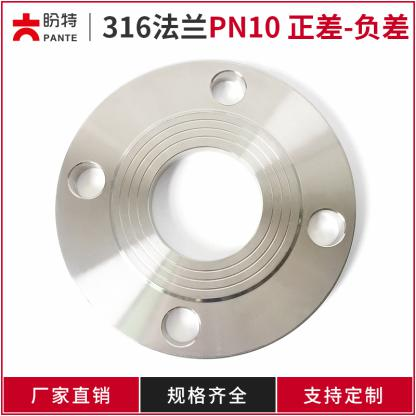FOD: (47, 51, 360, 361)
